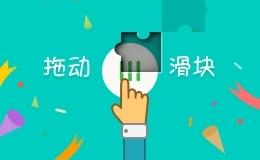target: (101, 12, 141, 52)
